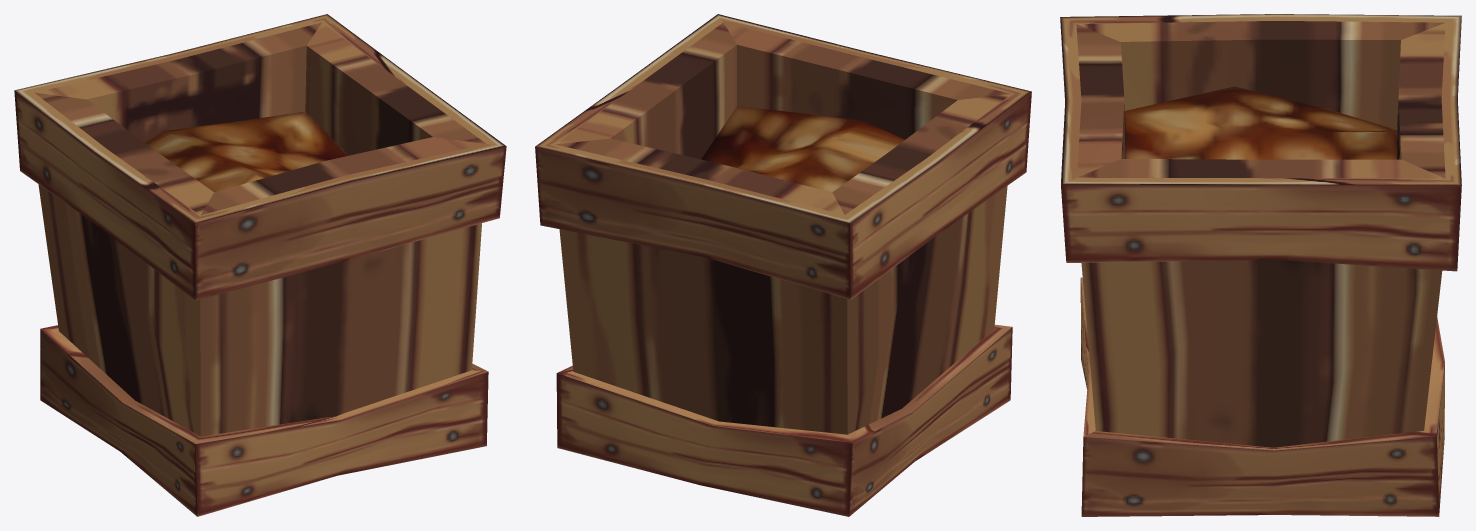
Rendered from SM_PROP_box_02.glb.
3 renders of one model, left to right at view 1: azimuth 30°, elevation 25°; view 2: azimuth 150°, elevation 25°; view 3: azimuth 270°, elevation 25°, orthographic. The views are drawn at different scales.
Visible parts, largest first — view 1: SM_PROP_box_02_EXPORT; view 2: SM_PROP_box_02_EXPORT; view 3: SM_PROP_box_02_EXPORT.
Boxes of the visible parts, x1,y1,x2,y2 form: SM_PROP_box_02_EXPORT: (14, 14, 506, 516); SM_PROP_box_02_EXPORT: (535, 14, 1031, 516); SM_PROP_box_02_EXPORT: (1060, 14, 1461, 516).
Size of the model in its own units: 0.9194 by 0.845 by 0.9053.
Materials: 3 (3 with a texture image).
